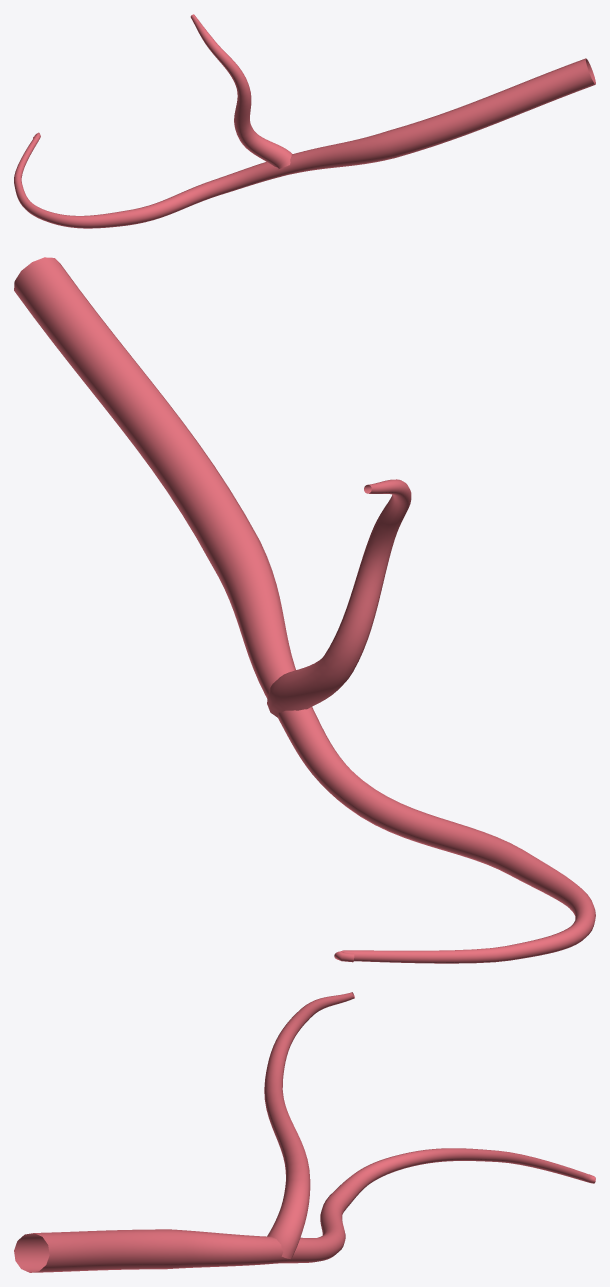
3 renders of one model, top to bottom at view 1: azimuth 30°, elevation 25°; view 2: azimuth 150°, elevation 25°; view 3: azimuth 270°, elevation 25°, orthographic. The views are drawn at different scales.
Parts seen in each view (by area): view 1: ZA_87cecc2ee04ebdbf; view 2: ZA_87cecc2ee04ebdbf; view 3: ZA_87cecc2ee04ebdbf.
Part boxes in pixels (x1=…): ZA_87cecc2ee04ebdbf: x1=14, y1=14, x2=595, y2=228; ZA_87cecc2ee04ebdbf: x1=14, y1=257, x2=595, y2=963; ZA_87cecc2ee04ebdbf: x1=14, y1=992, x2=595, y2=1272.
Bounding box in the file's own units: 0.1058 × 0.0445 × 0.087.
